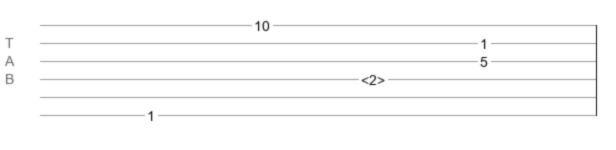1: (147, 108, 155, 118), (480, 36, 488, 46)
10: (254, 18, 270, 28)
5: (480, 54, 488, 64)
harmonic: (361, 72, 385, 82)
